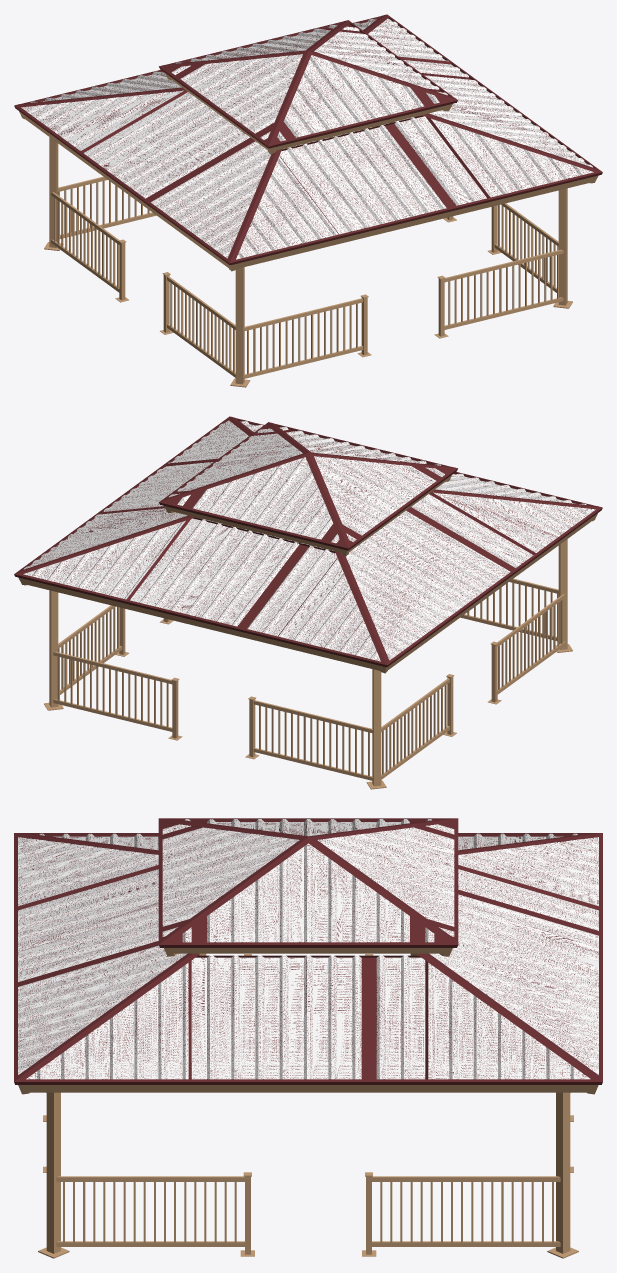
3 views of the same model, one above another, from view 1: azimuth 30°, elevation 25°; view 2: azimuth 150°, elevation 25°; view 3: azimuth 270°, elevation 25° (orthographic). The views are drawn at different scales.
Visible parts, largest first — view 1: Group_4 (×19), Group_8 (×6), group_17 (×3), C1 (×3), Group_12 (×4), group_14, group_18 (×2), group_10, group_15; view 2: Group_4 (×19), Group_8 (×6), group_17 (×3), C1 (×3), Group_12 (×4), group_6, group_18 (×2), group_10, group_7; view 3: Group_4 (×25), Group_8 (×7), group_17 (×4), C1 (×2), group_2, Group_12 (×4), group_18 (×4), group_3.
Part boxes in pixels (x1,y1,x2,y2): Group_4 (×19): [15, 18, 601, 262]; Group_8 (×6): [159, 28, 456, 145]; group_17 (×3): [14, 16, 602, 265]; C1 (×3): [49, 137, 567, 384]; Group_12 (×4): [243, 249, 563, 378]; group_14: [235, 176, 593, 268]; group_18 (×2): [159, 66, 457, 148]; group_10: [21, 113, 228, 267]; group_15: [274, 105, 448, 150]; Group_4 (×19): [15, 420, 601, 664]; Group_8 (×6): [160, 430, 457, 547]; group_17 (×3): [14, 418, 602, 667]; C1 (×3): [49, 539, 567, 786]; Group_12 (×4): [53, 651, 373, 780]; group_6: [23, 578, 381, 670]; group_18 (×2): [159, 468, 457, 550]; group_10: [388, 515, 595, 669]; group_7: [169, 507, 342, 552]; Group_4 (×25): [14, 833, 602, 1081]; Group_8 (×7): [159, 818, 457, 944]; group_17 (×4): [14, 833, 602, 1084]; C1 (×2): [46, 1092, 570, 1253]; group_2: [25, 1085, 591, 1092]; Group_12 (×4): [56, 1176, 560, 1246]; group_18 (×4): [158, 818, 458, 947]; group_3: [171, 948, 445, 953].
Bounding box in the file's own units: 291 × 291 × 168.
